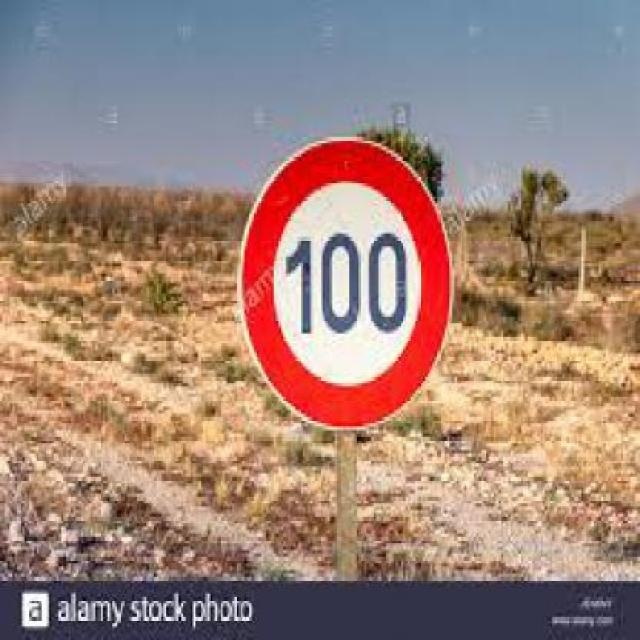forb_speed_over_100: (251, 153, 447, 416)
